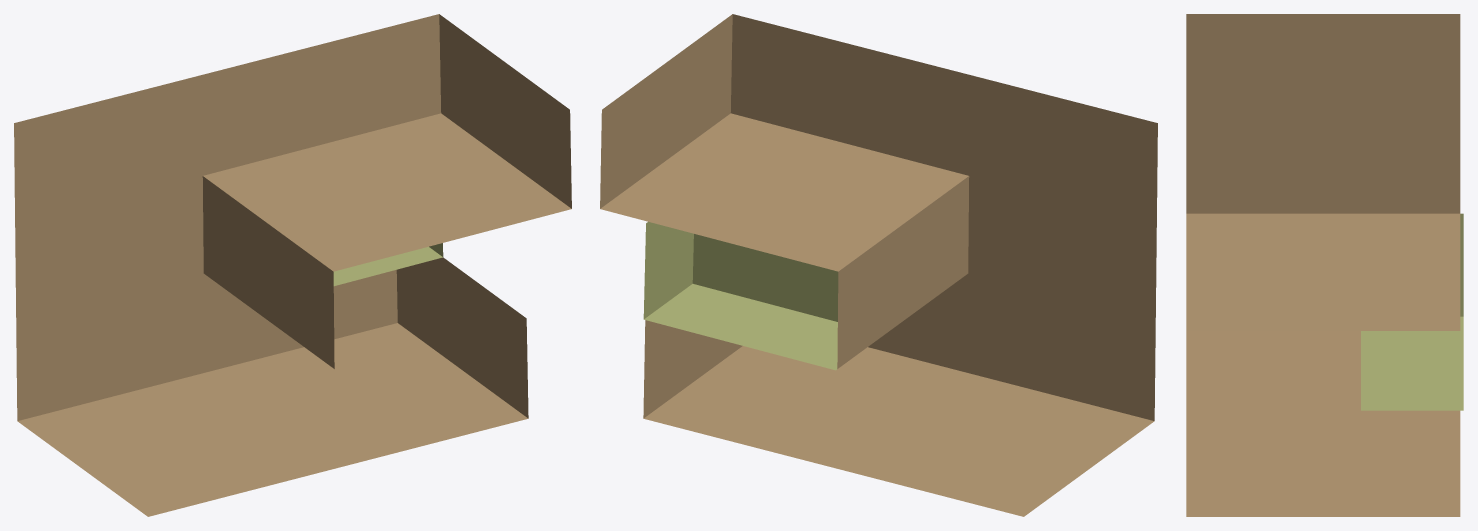
3 renders of one model, left to right at view 1: azimuth 30°, elevation 25°; view 2: azimuth 150°, elevation 25°; view 3: azimuth 270°, elevation 25°, orthographic. The views are drawn at different scales.
Visible parts, largest first — view 1: 0_0_1_1_3_2_3_1_1; view 2: 0_0_1_1_3_2_3_1_1; view 3: 0_0_1_1_3_2_3_1_1.
Part boxes in pixels (left/top/right/bottom): 0_0_1_1_3_2_3_1_1: left=14, top=14, right=571, bottom=516; 0_0_1_1_3_2_3_1_1: left=600, top=14, right=1157, bottom=516; 0_0_1_1_3_2_3_1_1: left=1186, top=14, right=1463, bottom=516.
Bounding box in the file's own units: 45.25 × 30.8 × 24.3.
